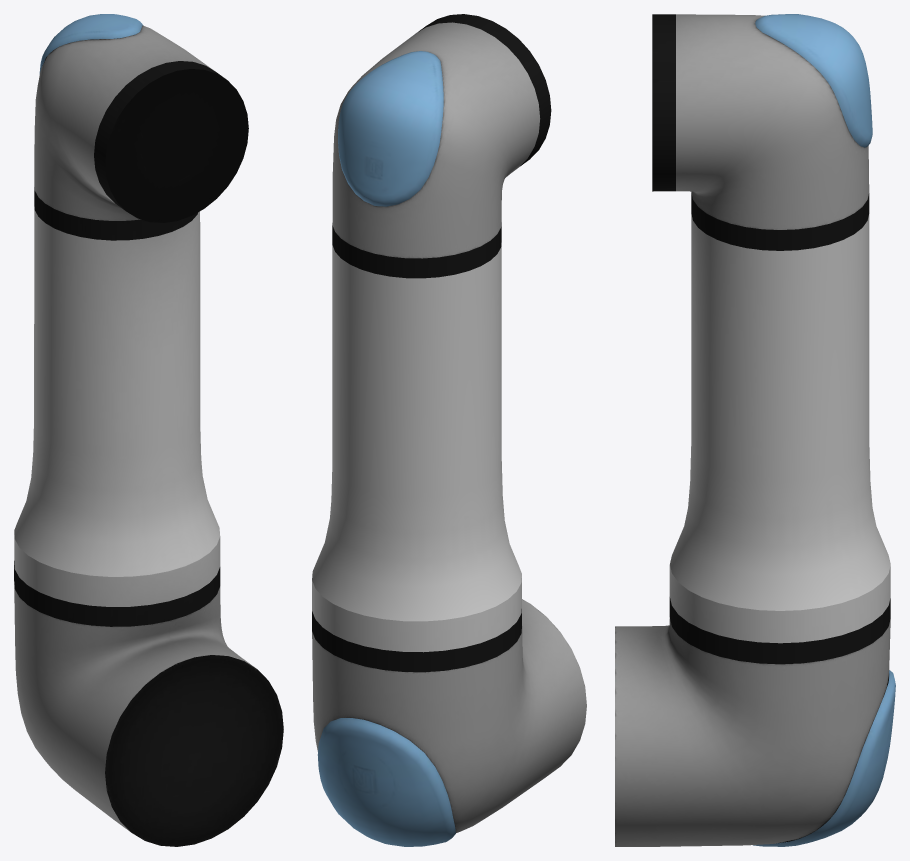
File: upperarm.dae
The picture shows the model from 3 angles, left to right: view 1: azimuth 30°, elevation 25°; view 2: azimuth 150°, elevation 25°; view 3: azimuth 270°, elevation 25°; orthographic projection. The views are drawn at different scales.
Parts seen in each view (by area): view 1: shoulder, shoulder_pad.001; view 2: shoulder, shoulder_pad.001, shoulder_pad; view 3: shoulder, shoulder_pad.001, shoulder_pad.
Part boxes in pixels (x1=…): shoulder: x1=14, y1=25, x2=283, y2=846; shoulder_pad.001: x1=39, y1=14, x2=143, y2=74; shoulder: x1=312, y1=14, x2=586, y2=832; shoulder_pad.001: x1=338, y1=51, x2=443, y2=206; shoulder_pad: x1=317, y1=718, x2=455, y2=846; shoulder: x1=615, y1=14, x2=890, y2=846; shoulder_pad.001: x1=755, y1=14, x2=872, y2=147; shoulder_pad: x1=753, y1=670, x2=895, y2=846.
Bounding box in the file's own units: 0.15 × 0.1907 × 0.6144.
4 materials, 4 textured.
